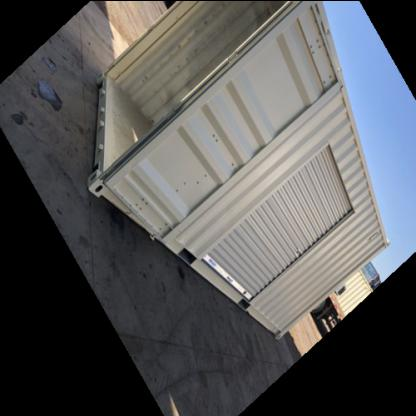Damage: (112, 164, 221, 219)
